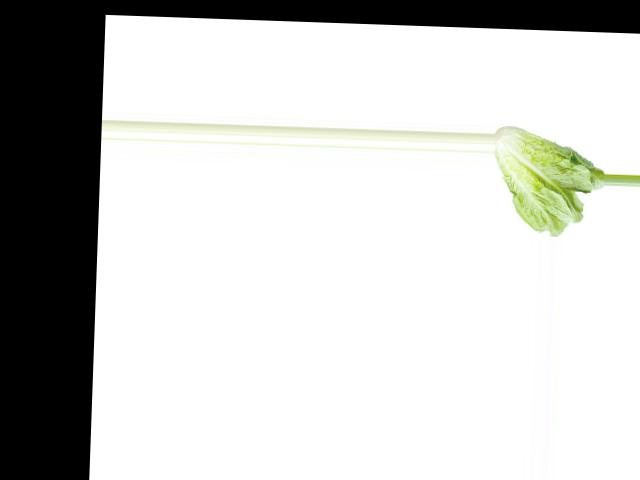lettuce: (492, 124, 603, 239)
